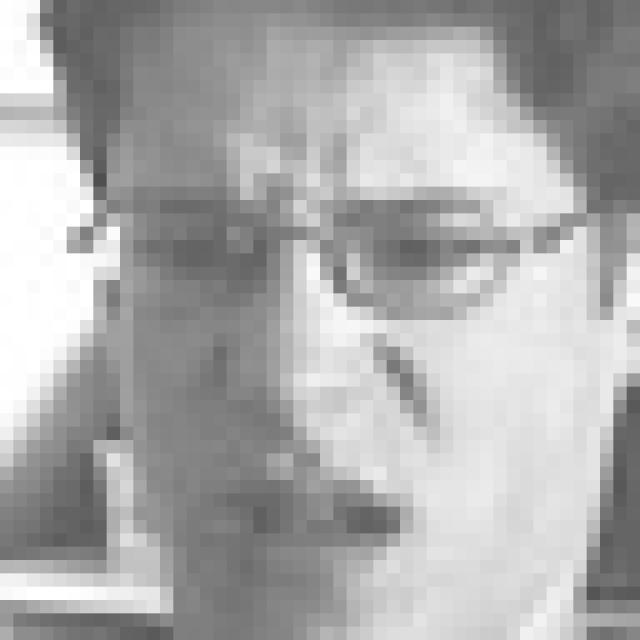disgust: (139, 135, 535, 592)
